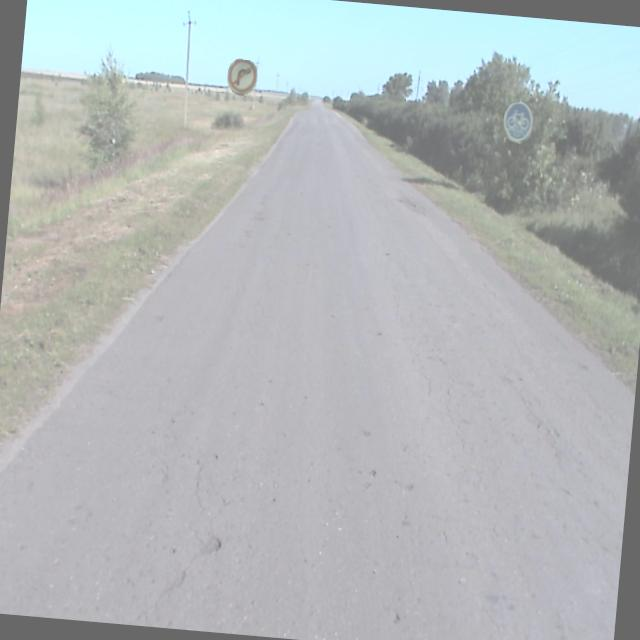road: (0, 108, 634, 640)
